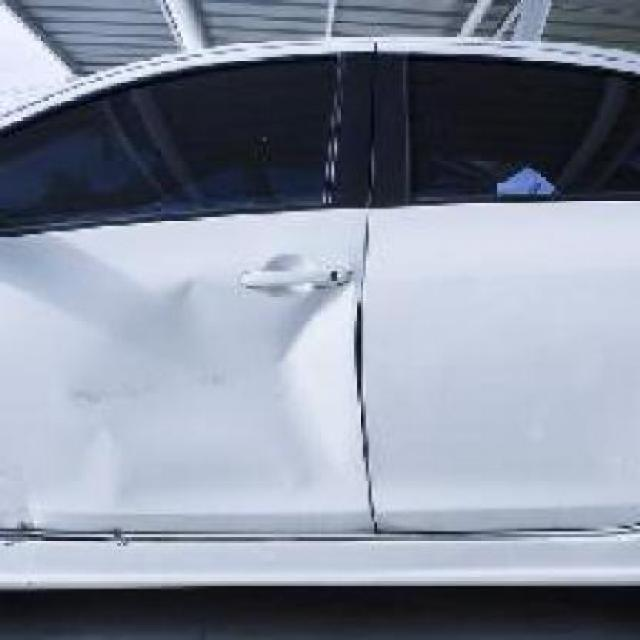dent-or-scratch: (88, 270, 344, 488)
